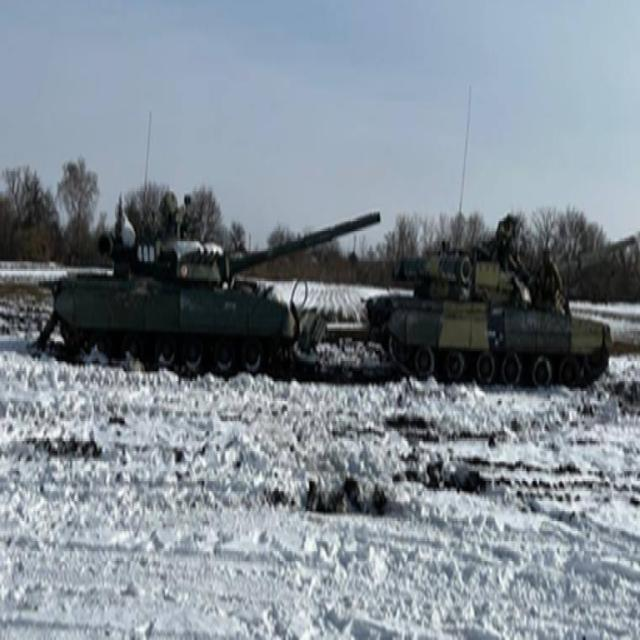TANK: (39, 196, 381, 382), (370, 224, 638, 384)
